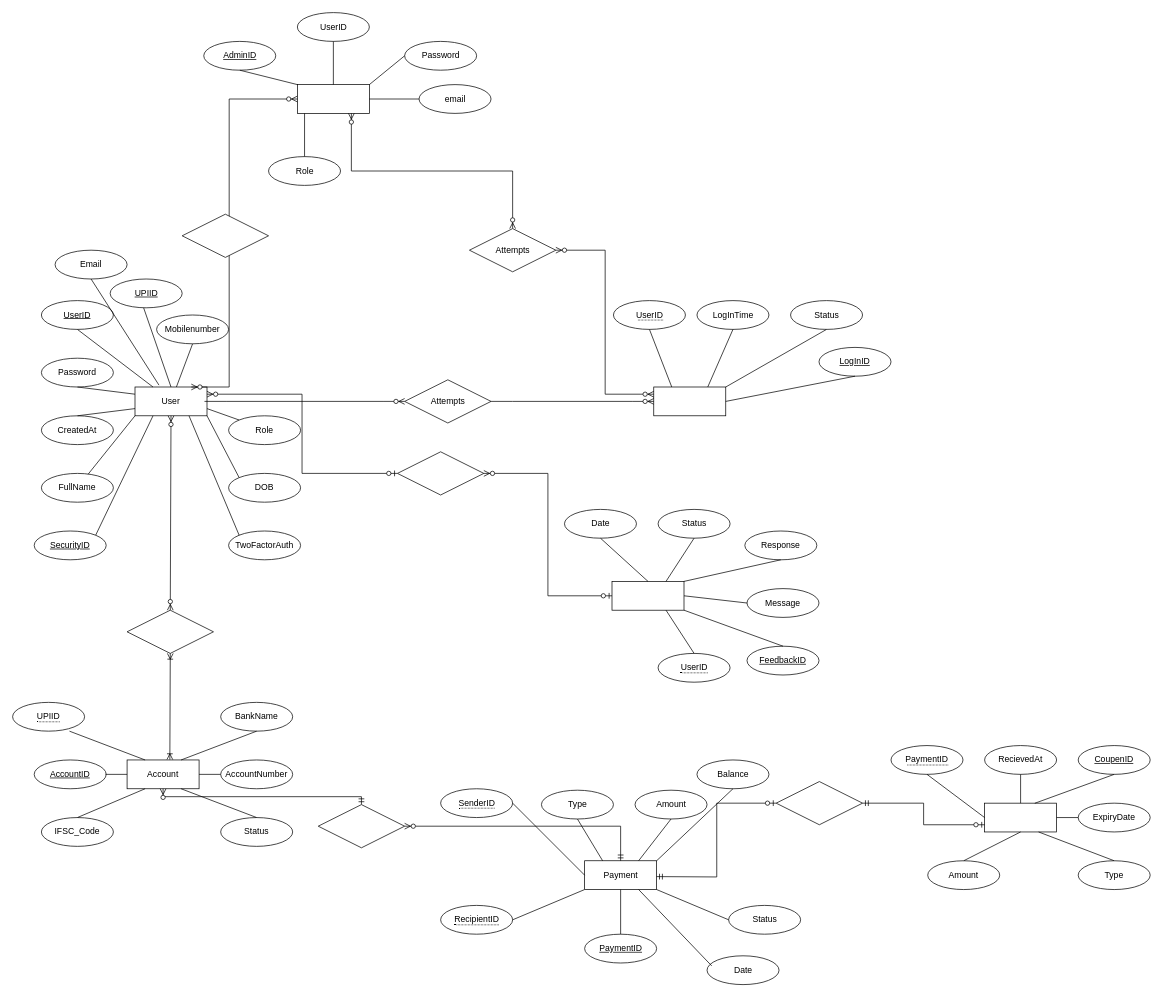
The diagram is 1163 pixels wide and 997 high, and some of its shapes have lost their labels. The shapes that lost their labels are listed below. From the top down, each one's centre as x and y in pixels, then its label:
the point at 333,98: Admin
the point at 225,235: Manages
the point at 689,401: LogInAttempts
the point at 440,473: Provides
the point at 647,595: FeedBack
the point at 169,631: Owns
the point at 819,803: Recieves
the point at 1020,817: Coupen
the point at 361,826: Process
